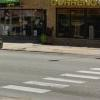Crosswalk: (7, 65, 99, 94)
